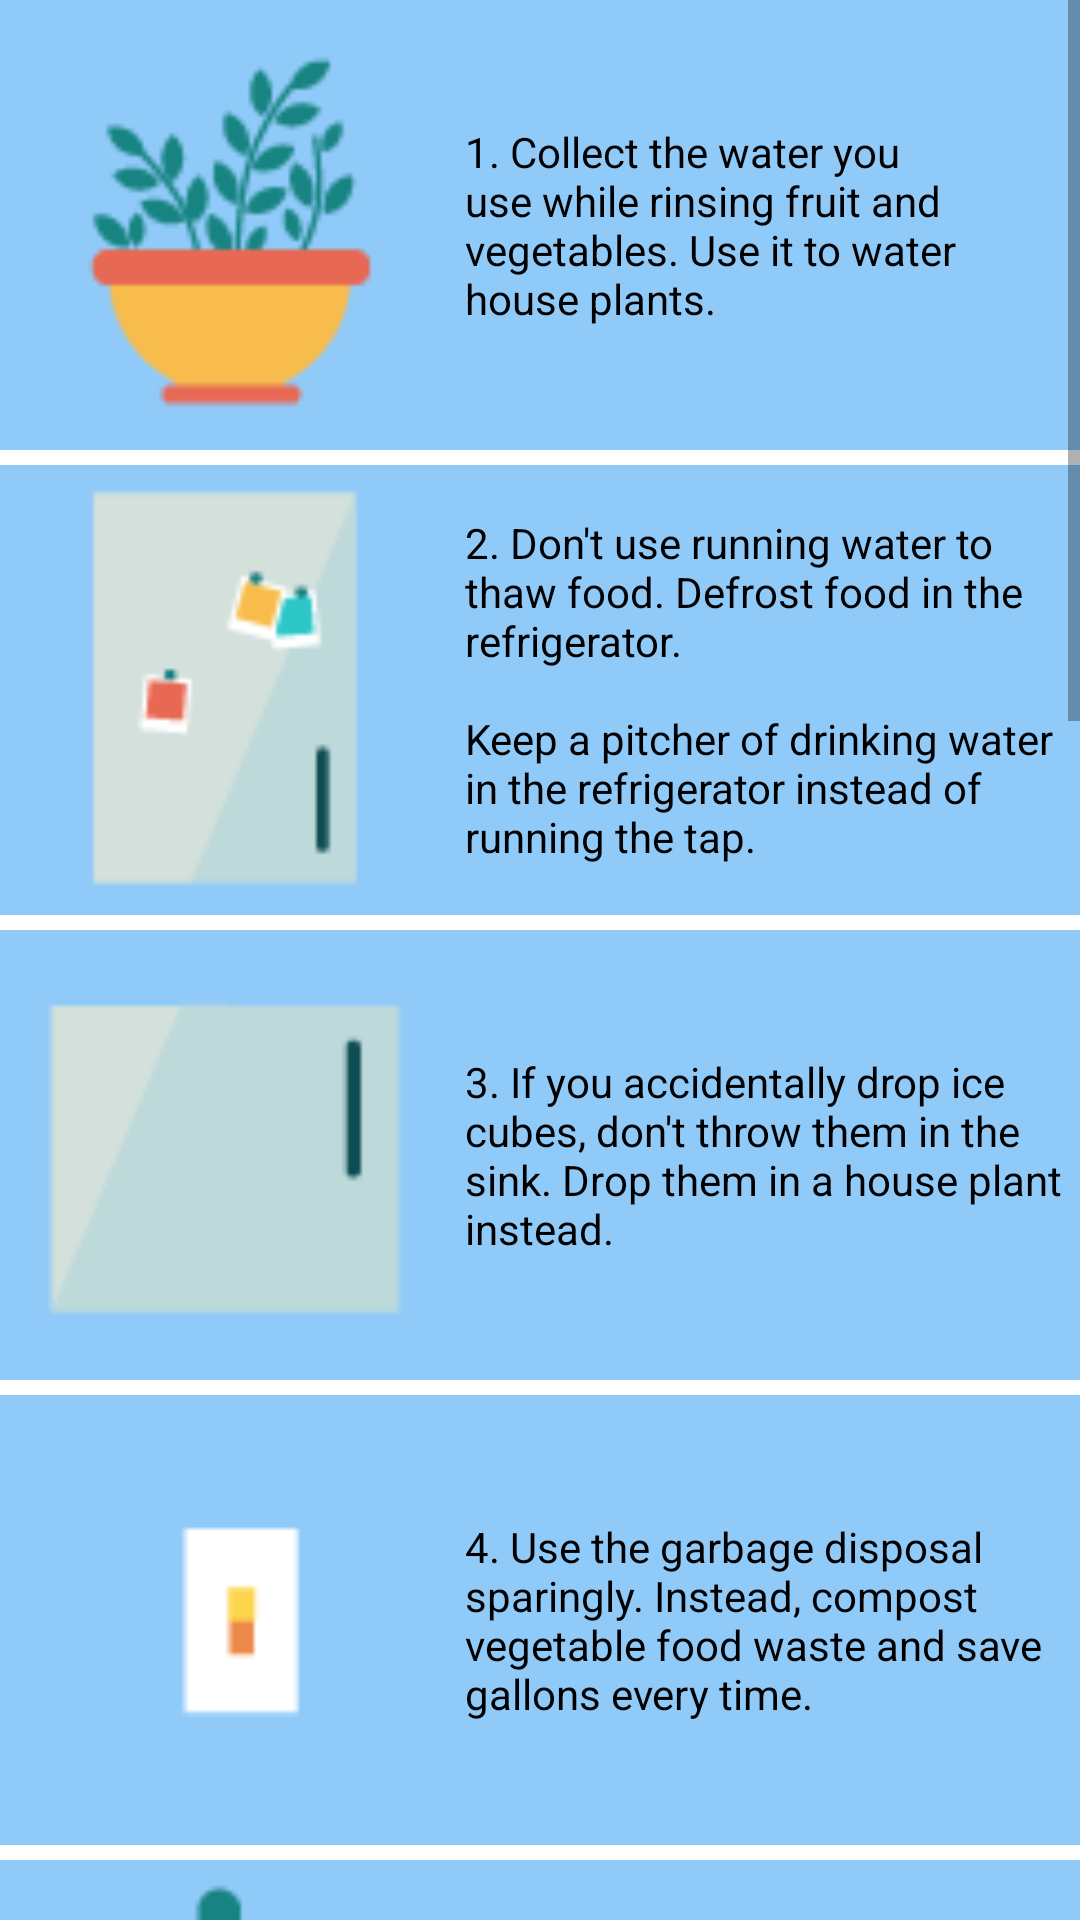

Where to tap for icons on this 1080*1920 app screen, as (x=x, y=y):
freezer: (x=224, y=1158)
